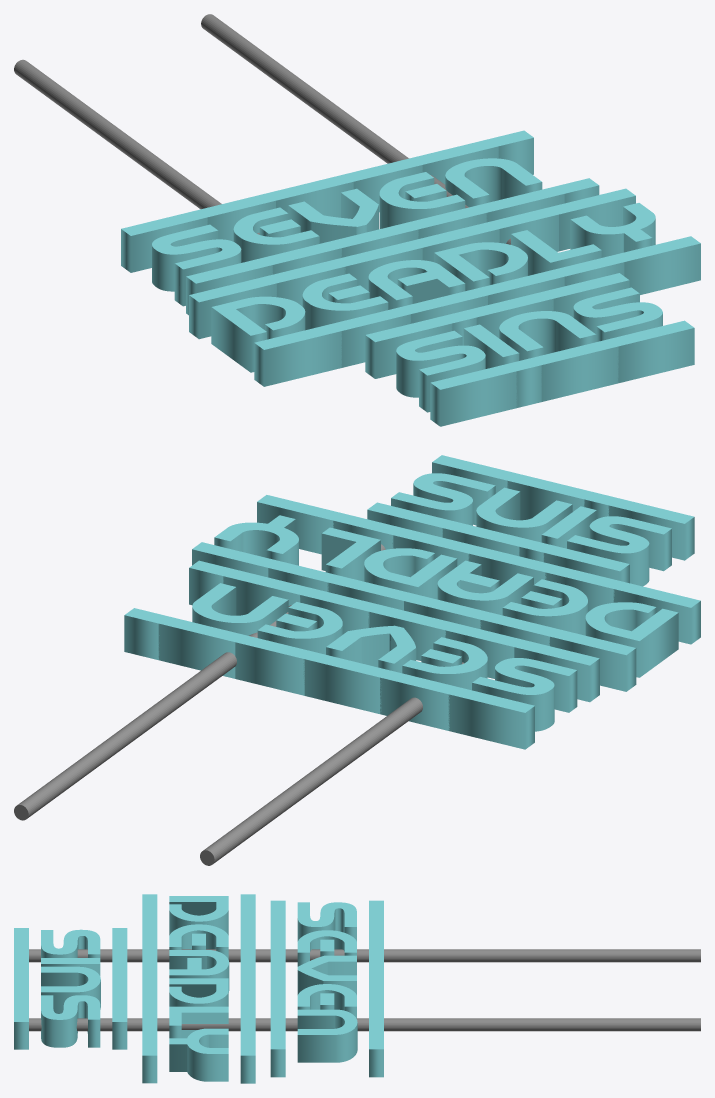
File: title_sign.glb
3 renders of one model, top to bottom at view 1: azimuth 30°, elevation 25°; view 2: azimuth 150°, elevation 25°; view 3: azimuth 270°, elevation 25°, orthographic. The views are drawn at different scales.
Parts seen in each view (by area): view 1: Text, Cylinder.002, Cylinder.003; view 2: Text, Cylinder.002, Cylinder.003; view 3: Text, Cylinder.002, Cylinder.003.
Boxes of the visible parts, left/top/right/bottom form: Text: left=121, top=130, right=700, bottom=426; Cylinder.002: left=201, top=14, right=510, bottom=244; Cylinder.003: left=14, top=59, right=259, bottom=234; Text: left=124, top=455, right=700, bottom=749; Cylinder.002: left=14, top=544, right=385, bottom=820; Cylinder.003: left=200, top=662, right=464, bottom=865; Text: left=14, top=894, right=383, bottom=1083; Cylinder.002: left=29, top=1018, right=700, bottom=1031; Cylinder.003: left=29, top=949, right=700, bottom=962.
Bounding box in the file's own units: 2.97 × 0.24 × 5.35.
